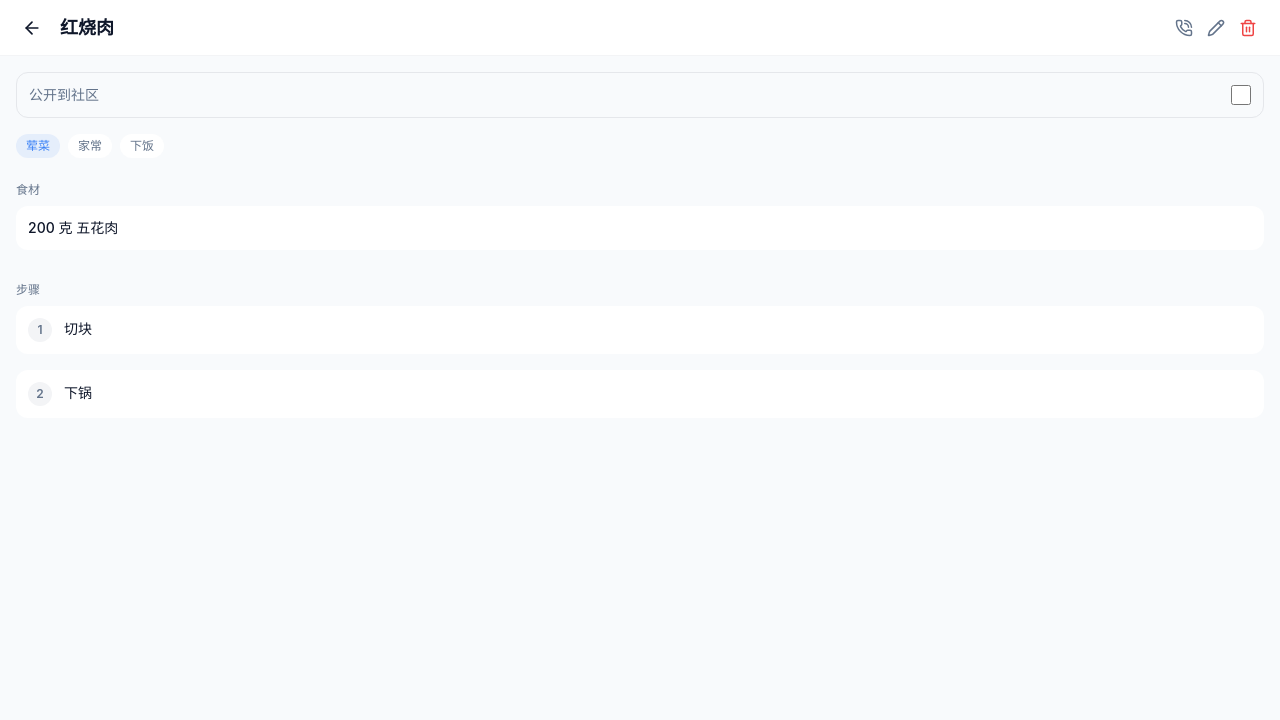
it: RecipeDetail › 删除失败时显示错误提示、不跳转、页面内容还在
Click the button with test id "delete": (1248, 28) [1232,12,1264,44]
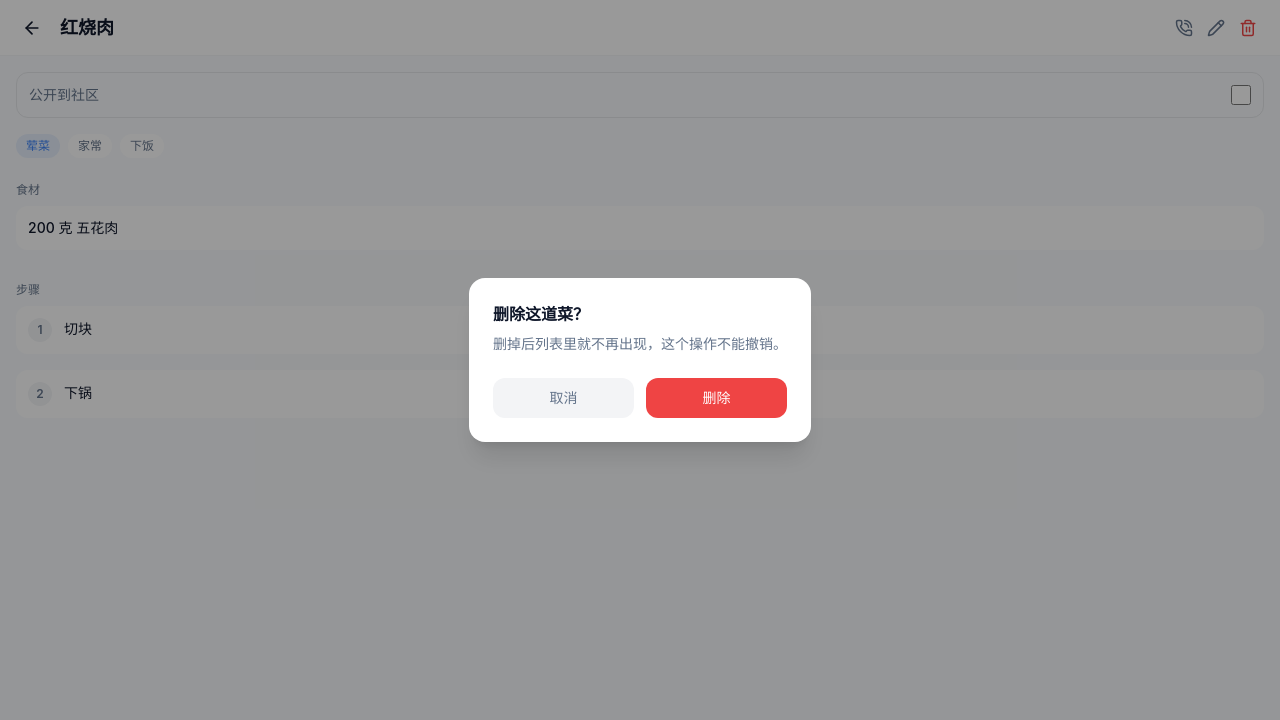
Click the button "删除": (716, 398) [646,378,787,418]
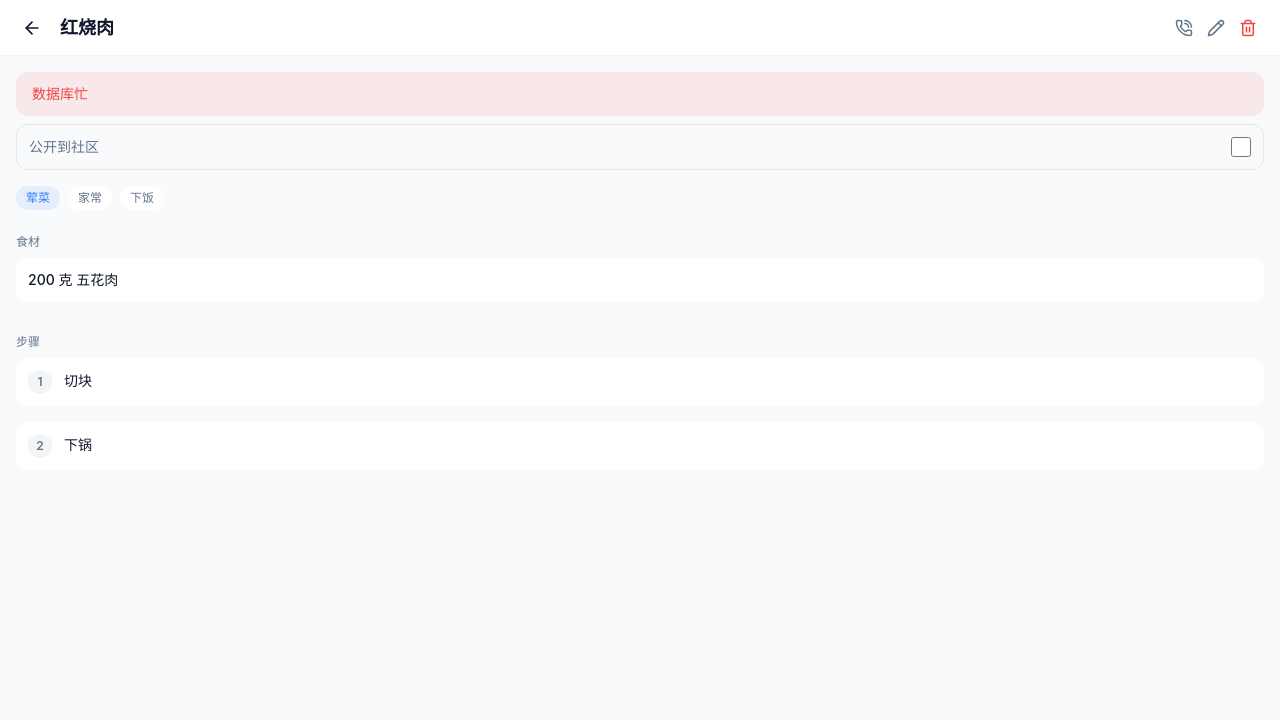
Expected: the heading with test id "detail-name" reads "红烧肉", [60,16,114,38]
Now the text with test id "delete-error" reads "数据库忙", box [32,85,88,102]
